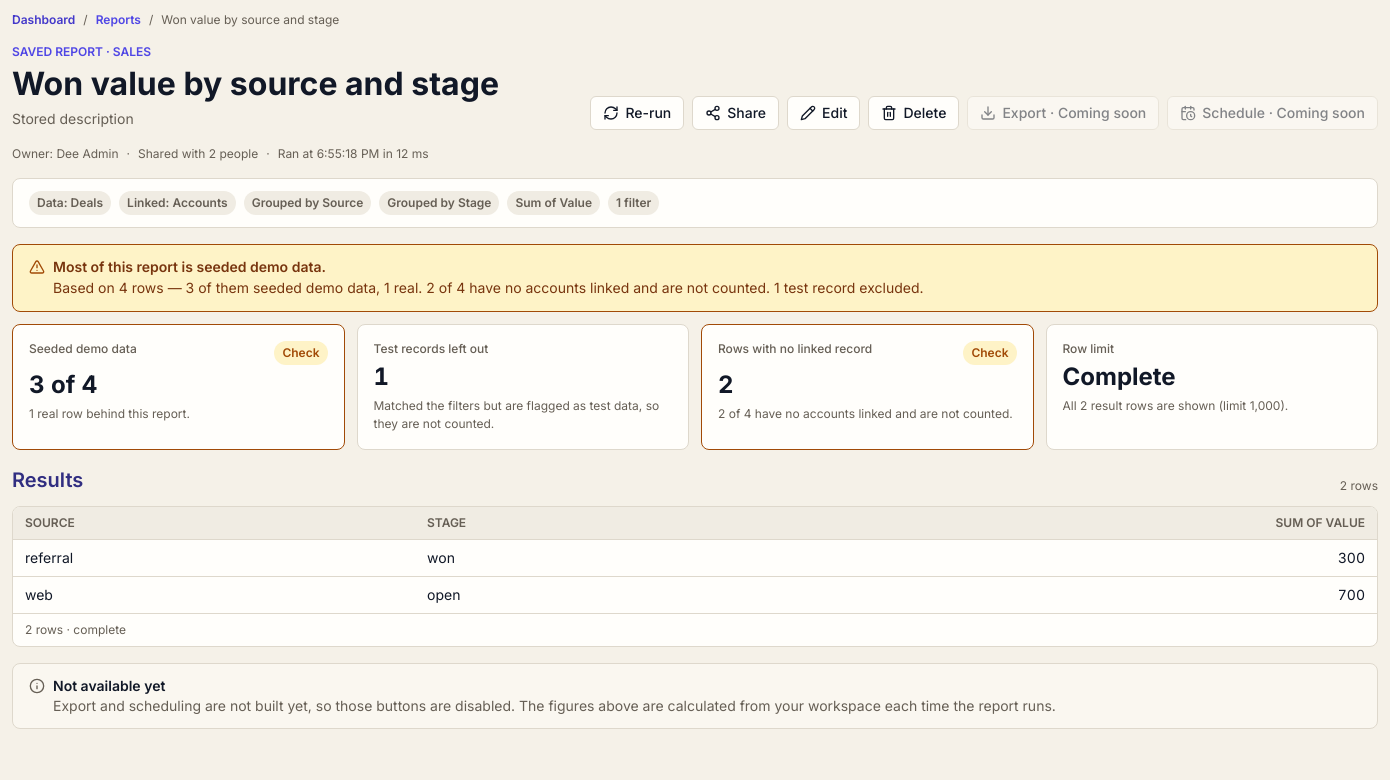
Test: run failures › a re-run that fails CLEARS the previous table rather than leaving old figures under the error
Check: the table with test id "report-results" is shown, box [13, 507, 1377, 613]
Click the button "Re-run" at coordinates (637, 113), box [590, 96, 684, 130]
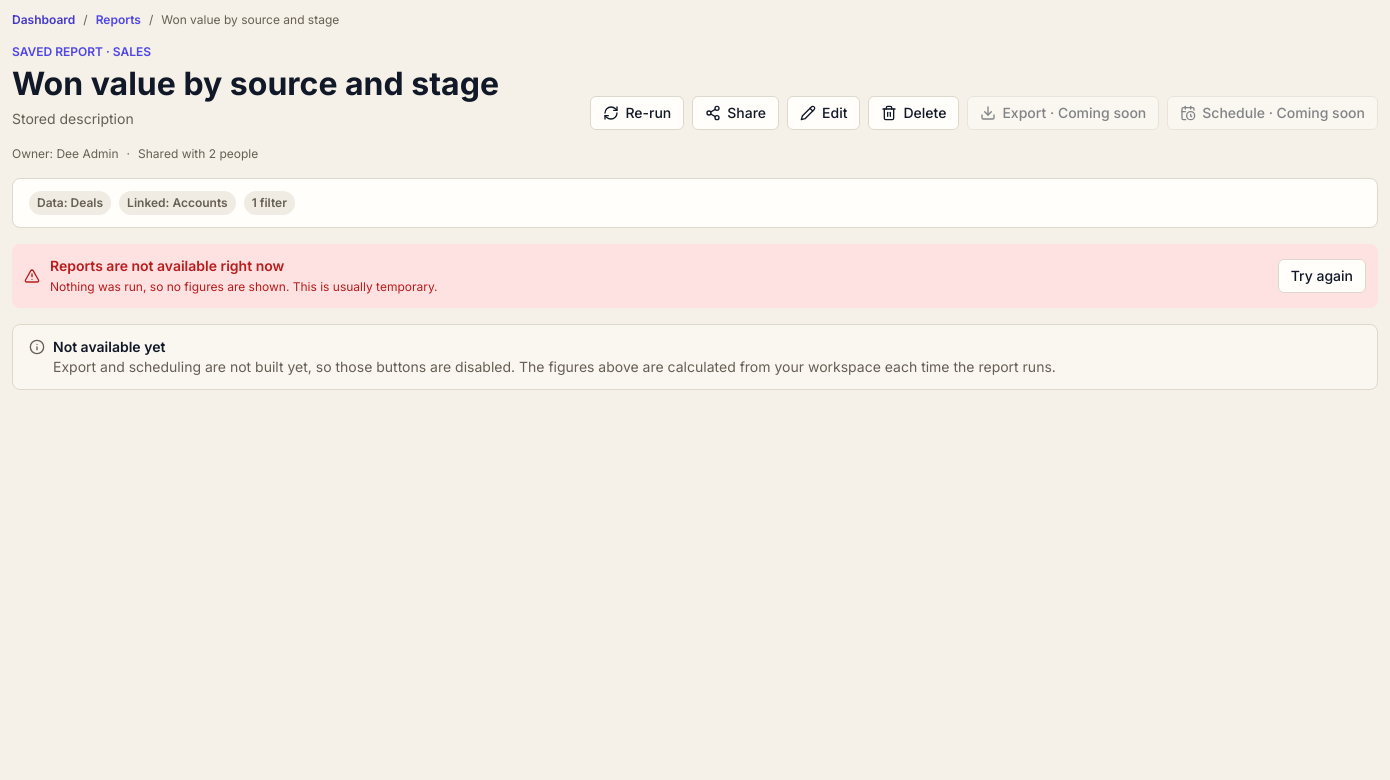
Check: the element with test id "report-error-unavailable" shows "Nothing was run", box [50, 279, 438, 294]
Check: the table with test id "report-results" is gone
Check: the element with test id "provenance" is gone
